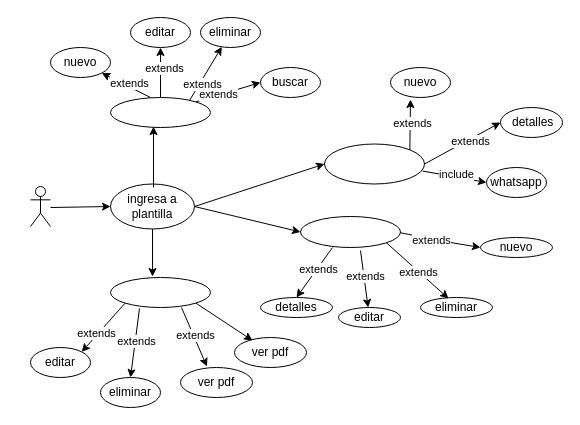
The diagram is 580 pixels wide and 425 high, and some of its shapes have lost their labels. Each missing label, with the box of its shape:
abogado: (30, 186, 50, 226)
enlaces: (300, 216, 400, 248)
mensajeria: (324, 143, 424, 184)
plantillas: (110, 276, 210, 308)
tipos plantilla: (110, 96, 210, 128)
